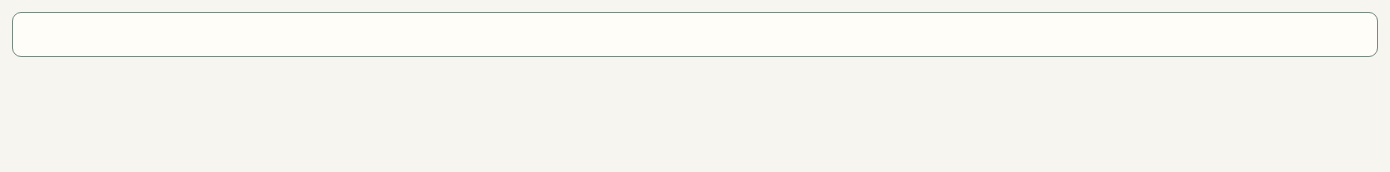
PhoneInput › §8.2 karakter kümesi dışındaki karakterleri süzer
In the field: (695, 34) x1=12 y1=12 x2=1378 y2=57, type "0555 abc!+"
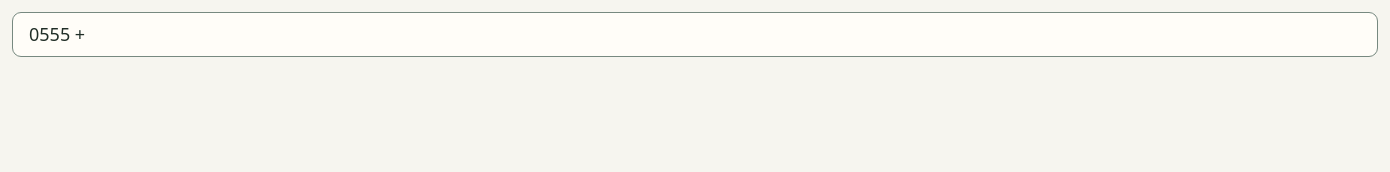
Check: the field holds "0555 +", box x1=12 y1=12 x2=1378 y2=57
